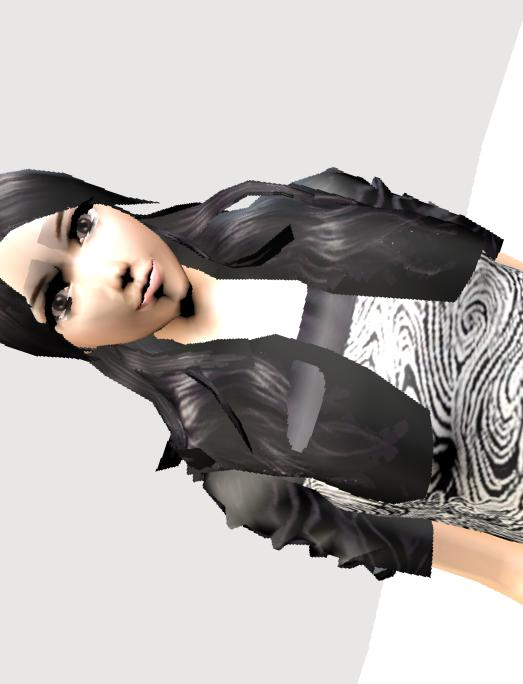clip: (283, 355, 330, 448)
